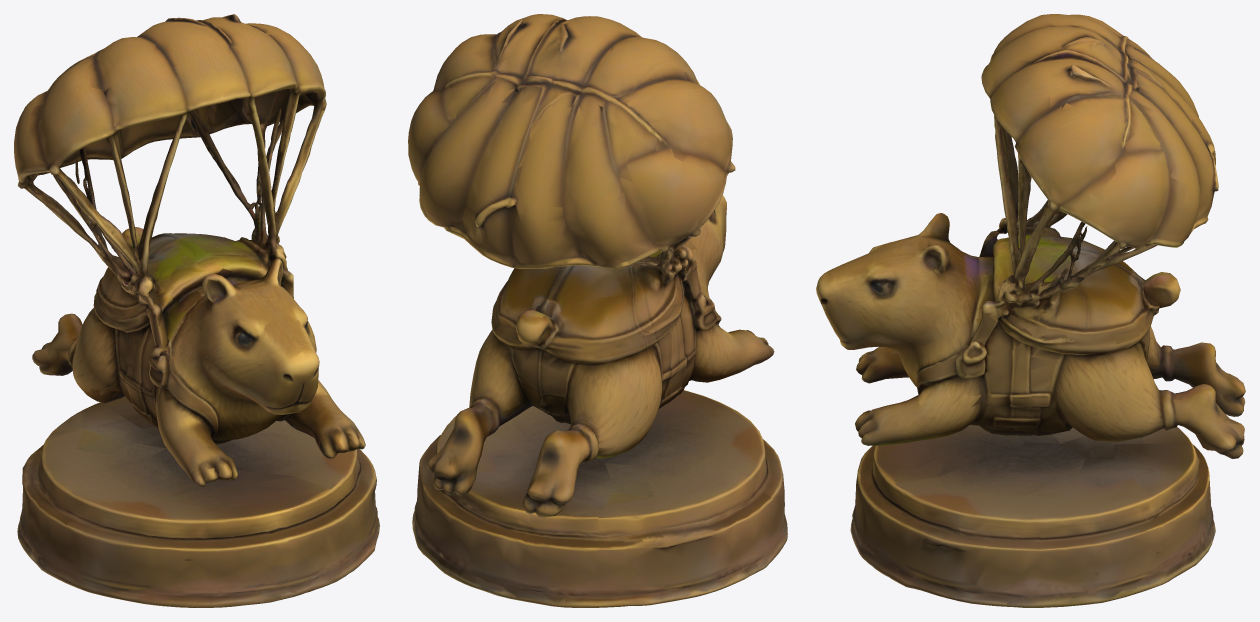
The model's file is parachute_t.fbx.
3 renders of one model, left to right at view 1: azimuth 30°, elevation 25°; view 2: azimuth 150°, elevation 25°; view 3: azimuth 270°, elevation 25°, orthographic. The views are drawn at different scales.
Visible parts, largest first — view 1: Mesh_0; view 2: Mesh_0; view 3: Mesh_0.
Part boxes in pixels (x1,y1,x2,y2): Mesh_0: (14,14,379,607); Mesh_0: (408,14,787,607); Mesh_0: (816,14,1245,607).
Size of the model in its own units: 133 by 200 by 156.
Materials: 1 (1 with a texture image).
